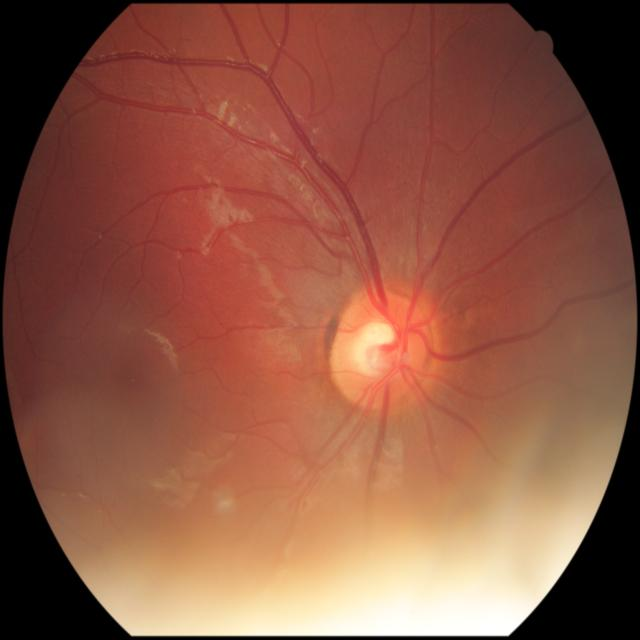OC: (354, 320, 397, 376)
OD: (328, 287, 434, 409)
